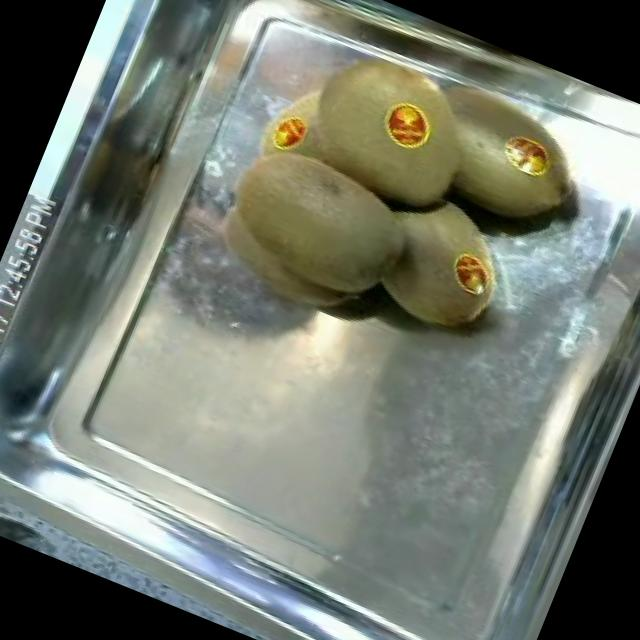Fruit: (181, 115, 429, 349), (353, 179, 530, 356), (368, 85, 446, 163), (486, 117, 566, 191)
